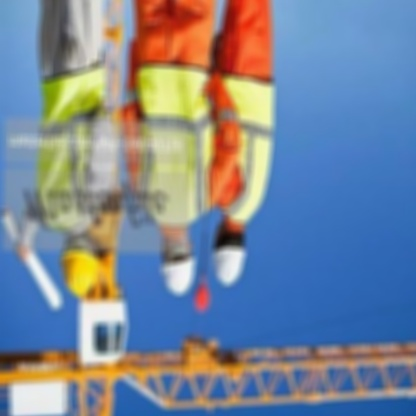vest: (127, 59, 218, 234), (28, 59, 113, 236), (203, 70, 279, 229)
white: (152, 251, 197, 303), (202, 242, 248, 292)
yellow: (55, 248, 101, 303)
